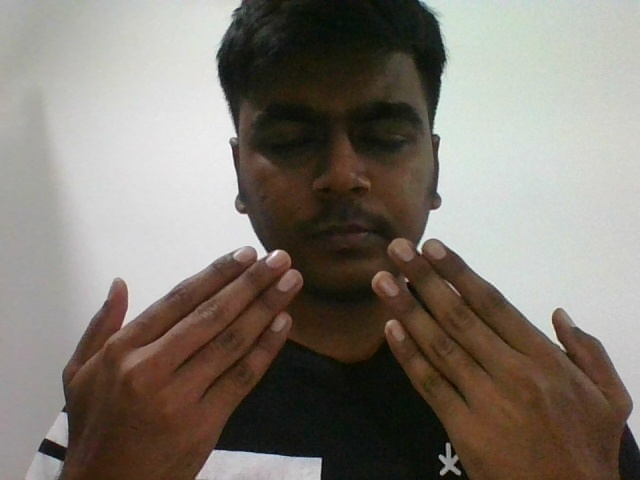thankyou: (83, 250, 547, 480)
